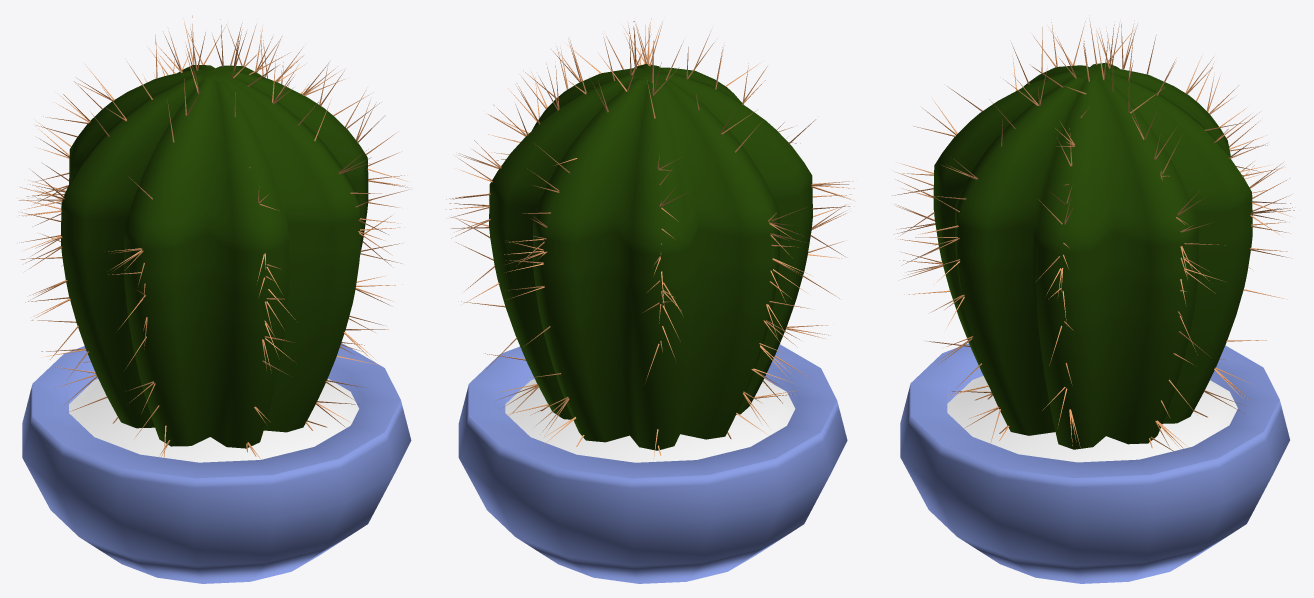
The model's file is cactus2.0.glb.
3 renders of one model, left to right at view 1: azimuth 30°, elevation 25°; view 2: azimuth 150°, elevation 25°; view 3: azimuth 270°, elevation 25°, orthographic.
Visible parts, largest first — view 1: Цилиндр.001, Цилиндр; view 2: Цилиндр.001, Цилиндр; view 3: Цилиндр.001, Цилиндр.
Part boxes in pixels (x1,y1,x2,y2): Цилиндр.001: (61, 65, 368, 448); Цилиндр: (22, 343, 411, 583); Цилиндр.001: (489, 64, 812, 450); Цилиндр: (458, 344, 847, 583); Цилиндр.001: (933, 63, 1252, 449); Цилиндр: (900, 343, 1289, 583).
Size of the model in its own units: 4.94 by 6.72 by 4.92.
